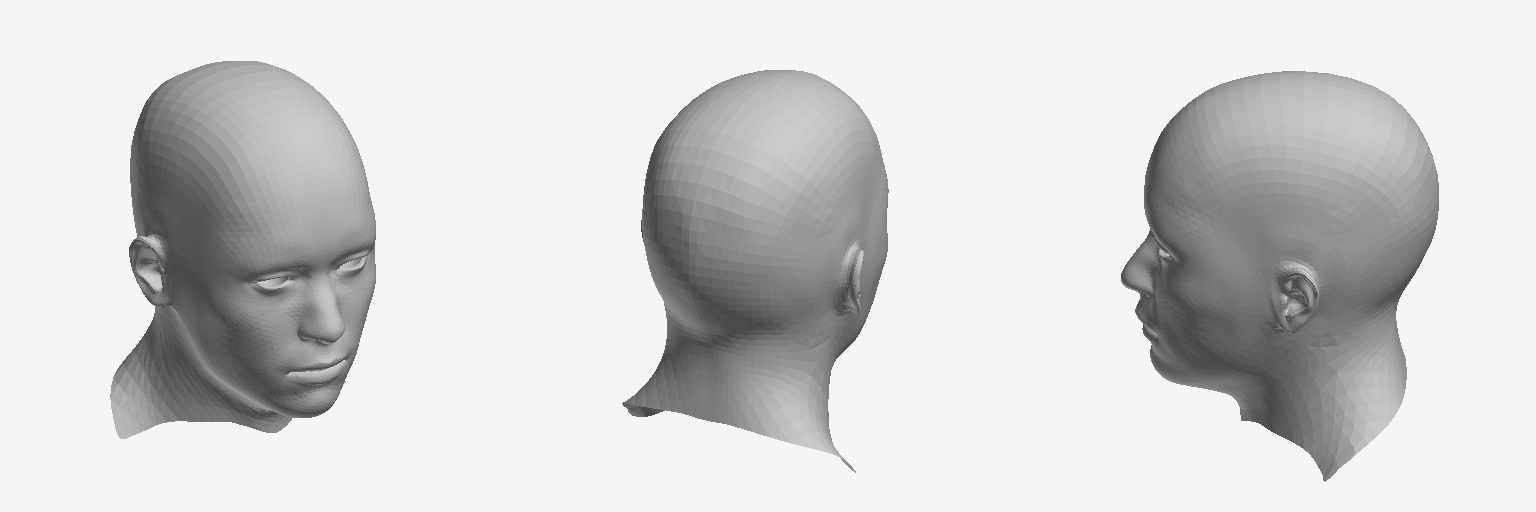
File: gentleman_head.obj
3 renders of one model, left to right at view 1: azimuth 30°, elevation 25°; view 2: azimuth 150°, elevation 25°; view 3: azimuth 270°, elevation 25°, orthographic.
Visible parts, largest first — view 1: male_generic.obj; view 2: male_generic.obj; view 3: male_generic.obj.
Part boxes in pixels (x1,y1,x2,y2): male_generic.obj: (110, 61, 375, 438); male_generic.obj: (622, 70, 888, 472); male_generic.obj: (1121, 71, 1438, 481).
Bounding box in the file's own units: 1.7 × 2.48 × 2.07.